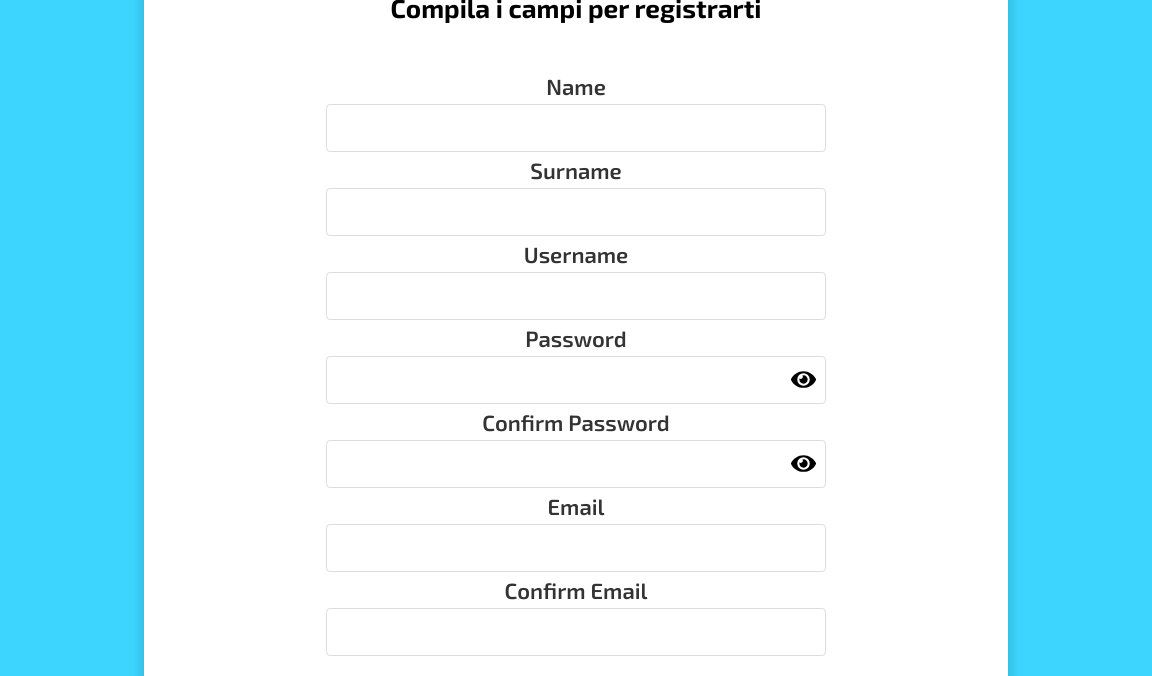
Test case: Input Field Props › should show the password when the toggle button is clicked
(page scrolled)
Step 1. Type "hello" into the 1st password field → (576, 380), box [326,356,826,404]
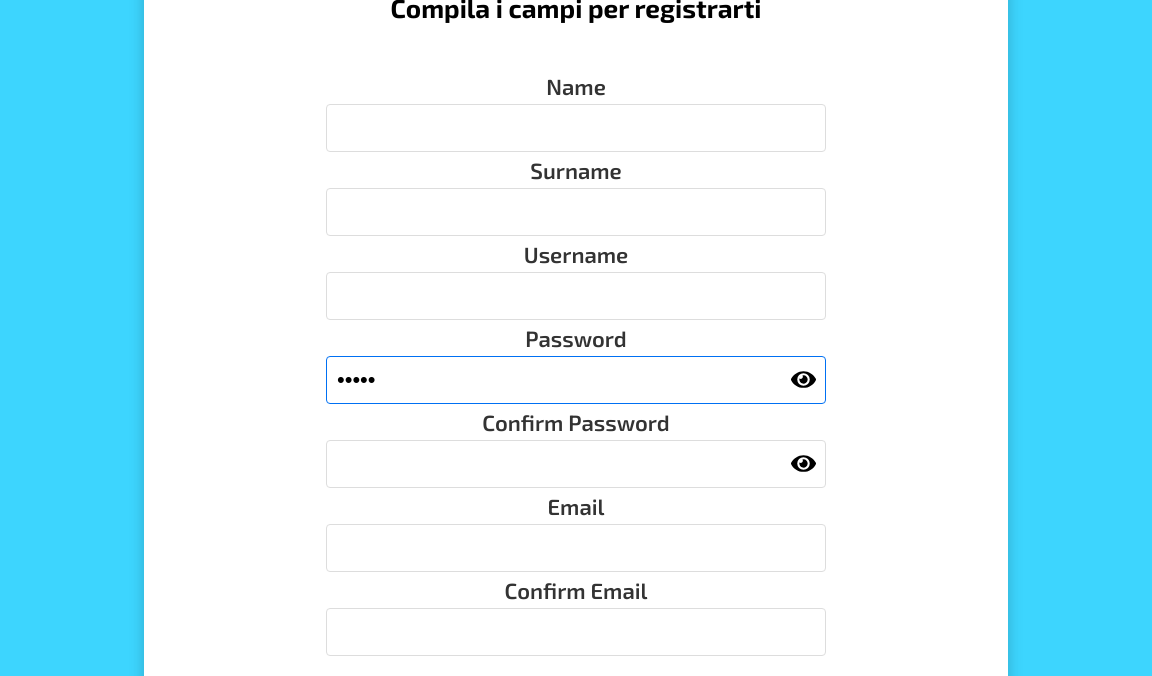
Step 2. Click the 1st button → (804, 383), box [791,367,816,398]
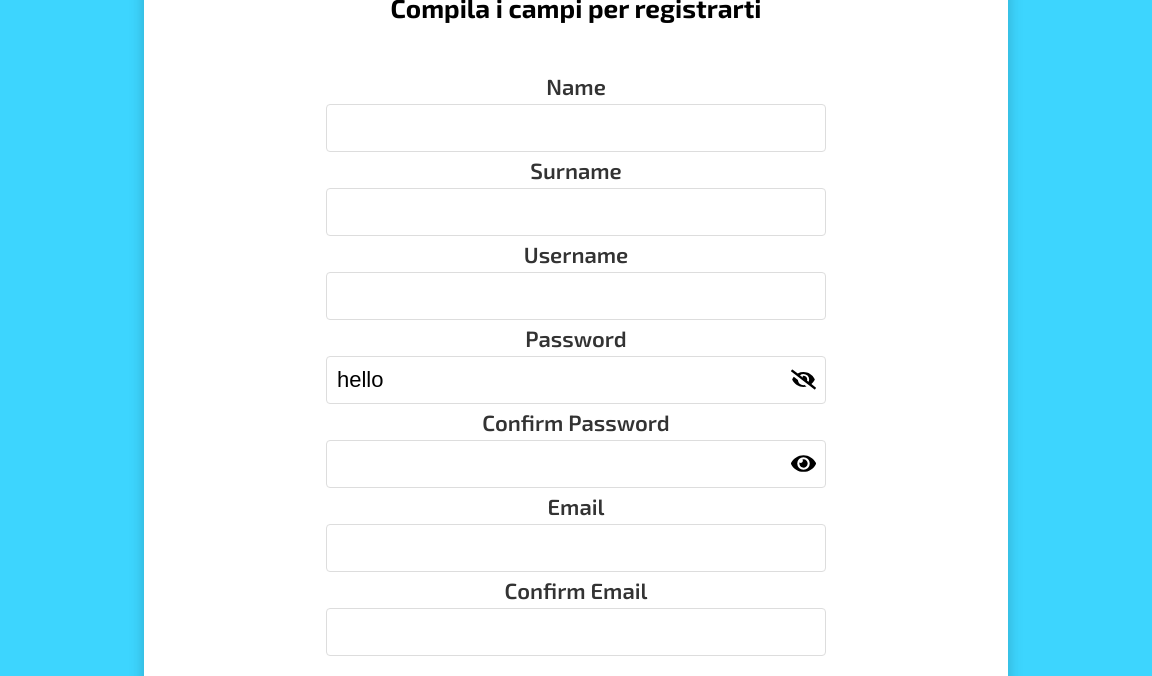
Expected: the 4th field shows its text, [326,356,826,404]
